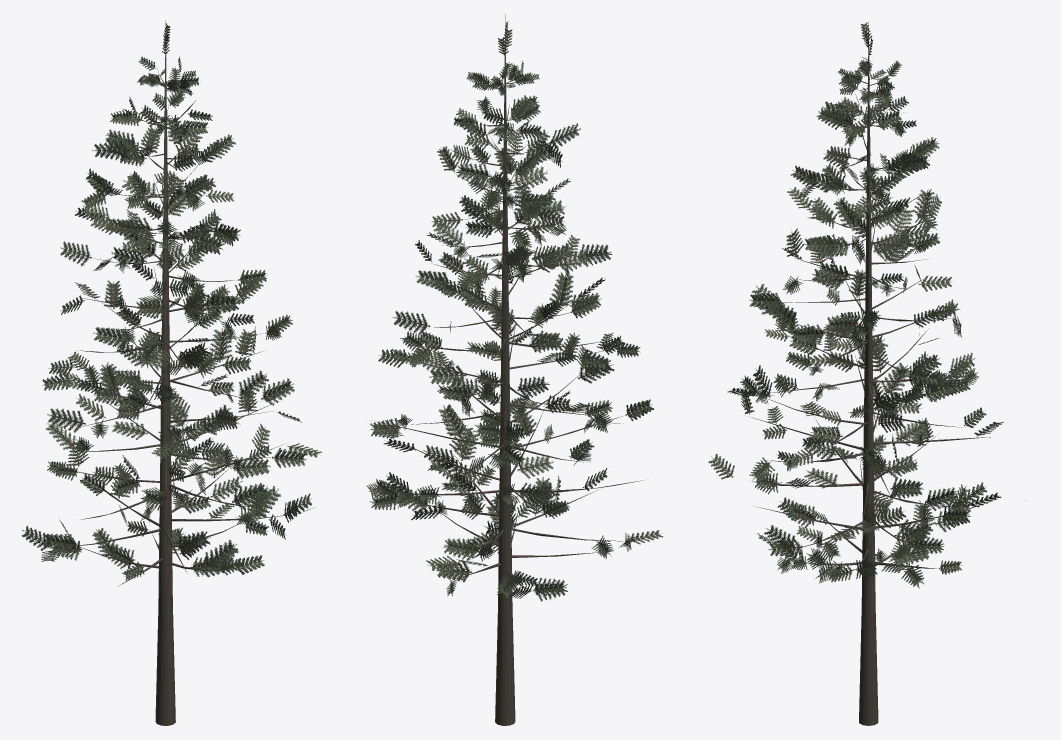
The model's file is Sitka_Pole_01_Unpruned_LOD2.fbx.
3 renders of one model, left to right at view 1: azimuth 30°, elevation 25°; view 2: azimuth 150°, elevation 25°; view 3: azimuth 270°, elevation 25°, orthographic.
Parts seen in each view (by area): view 1: Sitka_Pole_01_Unpruned_LOD2; view 2: Sitka_Pole_01_Unpruned_LOD2; view 3: Sitka_Pole_01_Unpruned_LOD2.
Part boxes in pixels (box(x1,y1,x2,y2)): Sitka_Pole_01_Unpruned_LOD2: box(21, 20, 321, 725); Sitka_Pole_01_Unpruned_LOD2: box(366, 14, 663, 725); Sitka_Pole_01_Unpruned_LOD2: box(708, 22, 1026, 725).
Size of the model in its own units: 353 by 800 by 355.
Materials: 2 (2 with a texture image).
